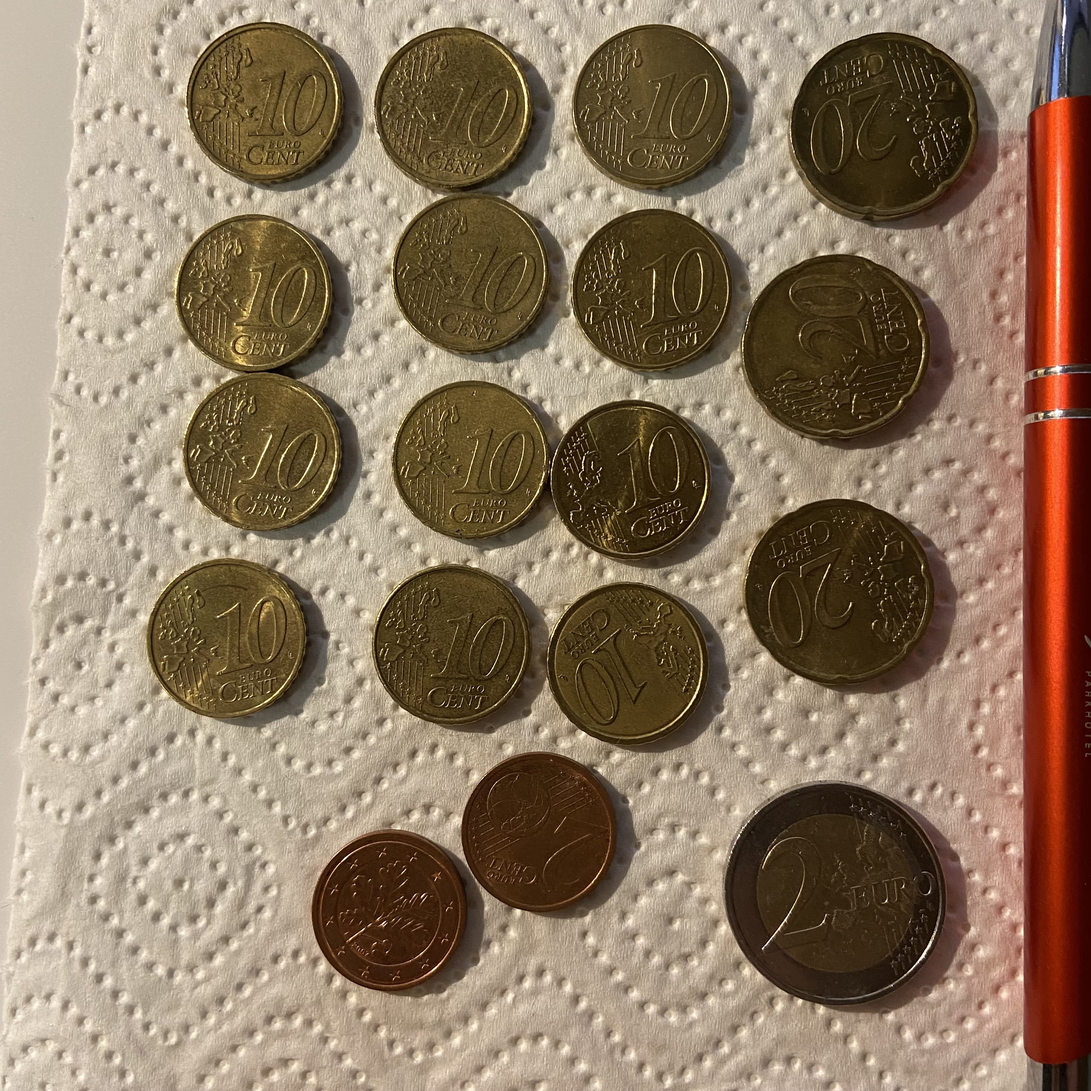10 cent: (572, 209, 731, 371), (375, 27, 532, 191), (573, 21, 730, 185), (147, 559, 307, 719), (548, 583, 707, 744), (373, 565, 530, 726), (187, 23, 343, 185), (551, 400, 710, 558), (180, 215, 336, 375), (184, 373, 342, 530), (393, 194, 549, 353), (393, 381, 549, 539)
2 cent: (462, 753, 616, 912), (317, 829, 471, 988)
2 euro: (725, 783, 945, 1005)
20 cent: (785, 23, 991, 220), (745, 499, 934, 687), (742, 255, 930, 438), (551, 400, 710, 558), (373, 565, 530, 725)
50 cent: (393, 194, 549, 353)
